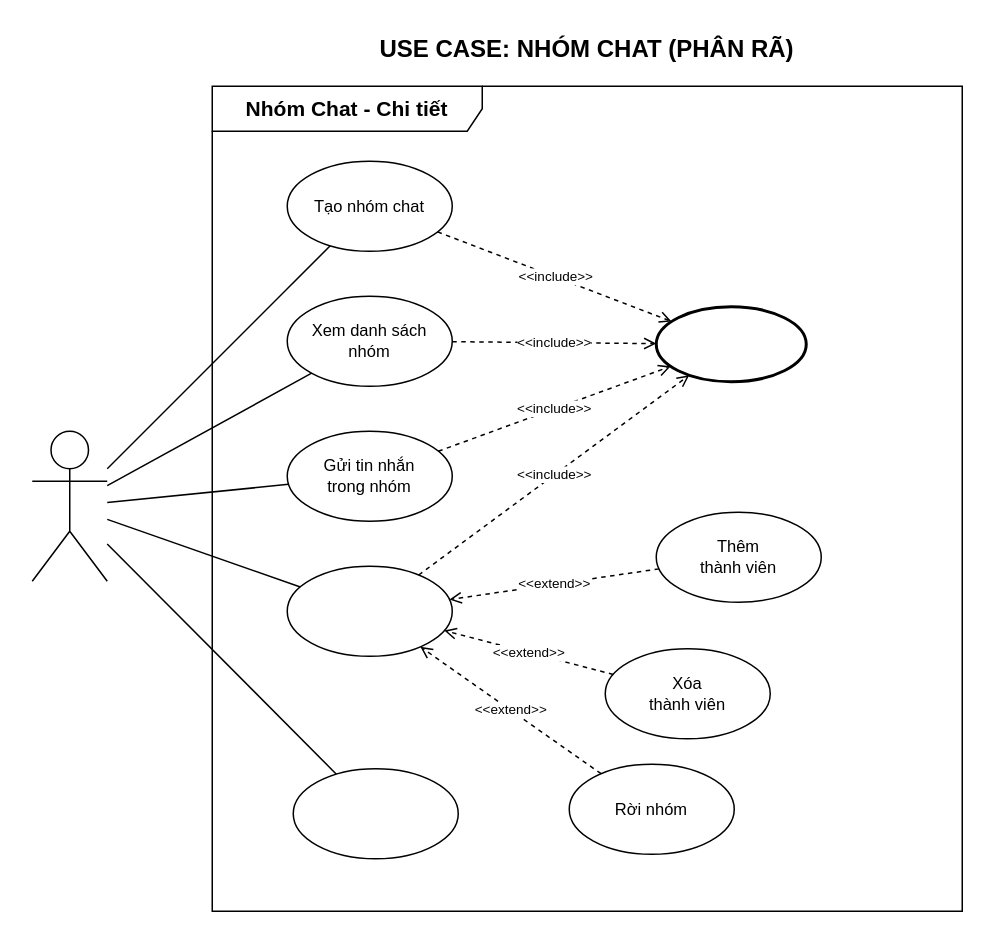
The diagram is 989 pixels wide and 938 high, and some of its shapes have lost their labels. The shapes that lost their labels are listed below. From the top down, each one's centre as x and y in pixels, then its label:
At pixel 730 343: "Đăng nhập".
At pixel 69 505: "Registered User".
At pixel 369 610: "Quản lý thành viên".
At pixel 375 813: "Xem thông tin nhóm".
